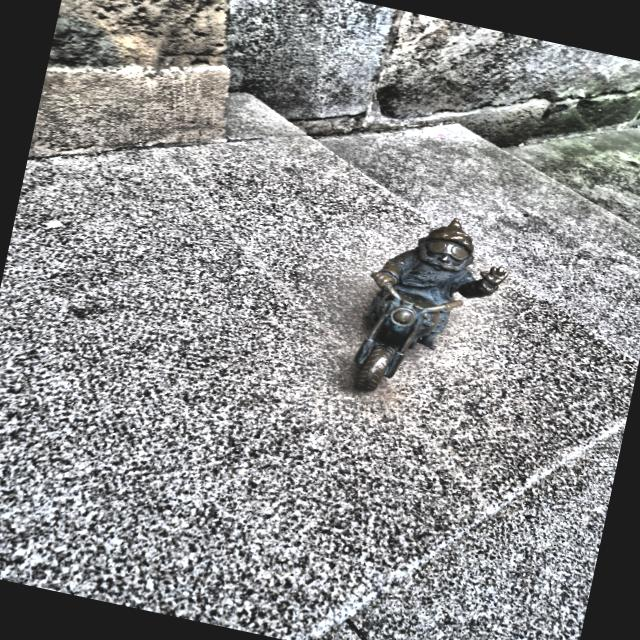Wentyl: (354, 218, 507, 391)
